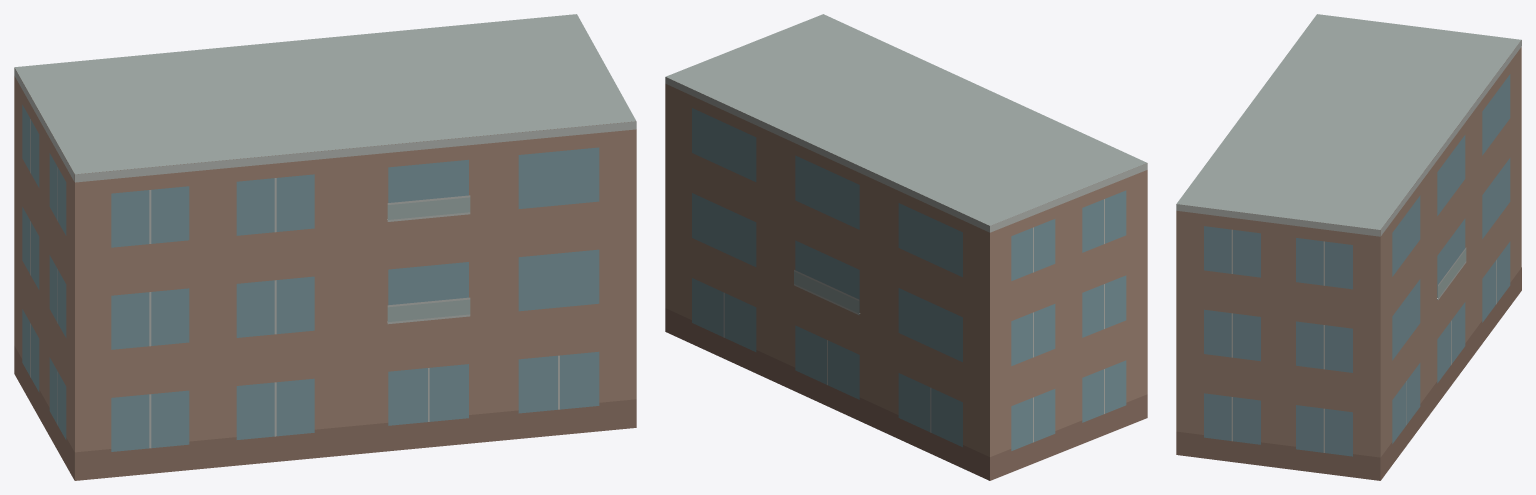
File: survey-upis-32932155.glb
The picture shows the model from 3 angles, left to right: view 1: azimuth 30°, elevation 25°; view 2: azimuth 150°, elevation 25°; view 3: azimuth 270°, elevation 25°; orthographic projection. The views are drawn at different scales.
Visible parts, largest first — view 1: survey-upis-32932155.tmp; view 2: survey-upis-32932155.tmp; view 3: survey-upis-32932155.tmp.
Boxes of the visible parts, x1,y1,x2,y2 form: survey-upis-32932155.tmp: (14,14,636,480); survey-upis-32932155.tmp: (665,14,1147,480); survey-upis-32932155.tmp: (1176,14,1521,480).
Size of the model in its own units: 16.91 by 9.15 by 11.43.
